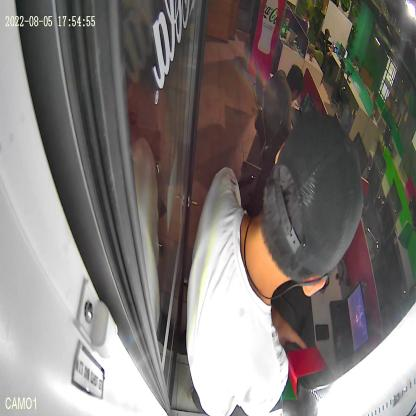red: (286, 342, 336, 404)
